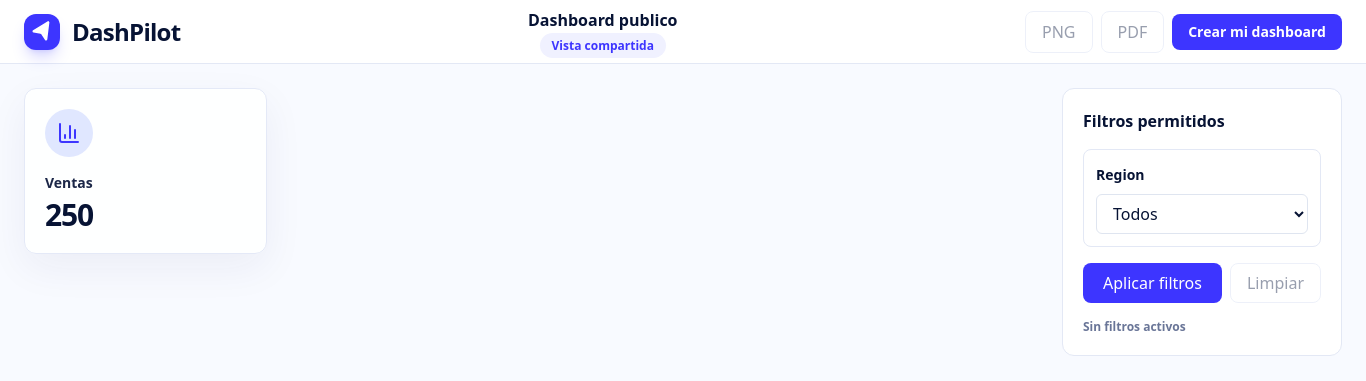
Scenario: PublicSharePage filters › renders interactive public filters and sends requested_filters
The image size is (1366, 381).
Select "RM" in the dropdown labelled "Region" at [1202, 214], box [1096,194,1308,234]
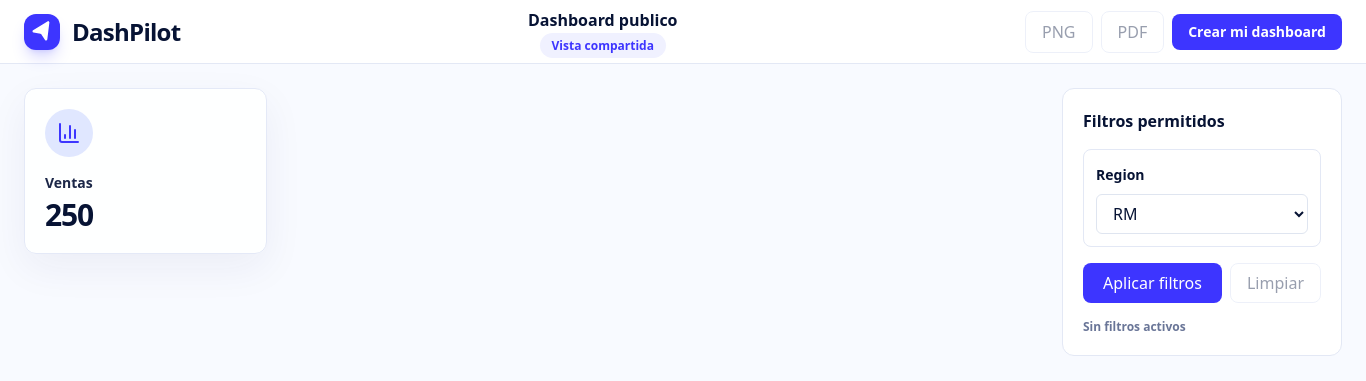
Click the button "Aplicar filtros" at [1152, 283], box [1083,263,1222,303]
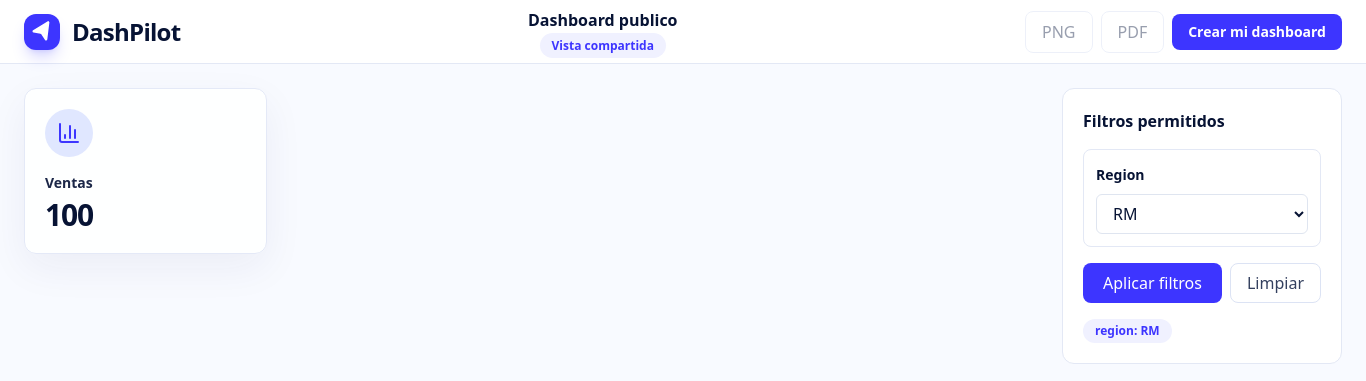
Expected: the text "region: RM" is shown, [1083,319,1172,343]
